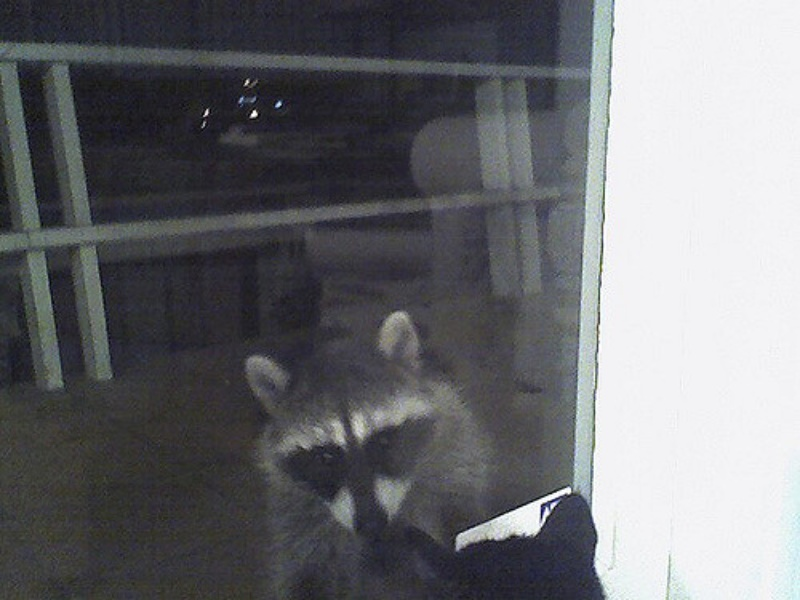raccoon: (241, 317, 496, 573)
